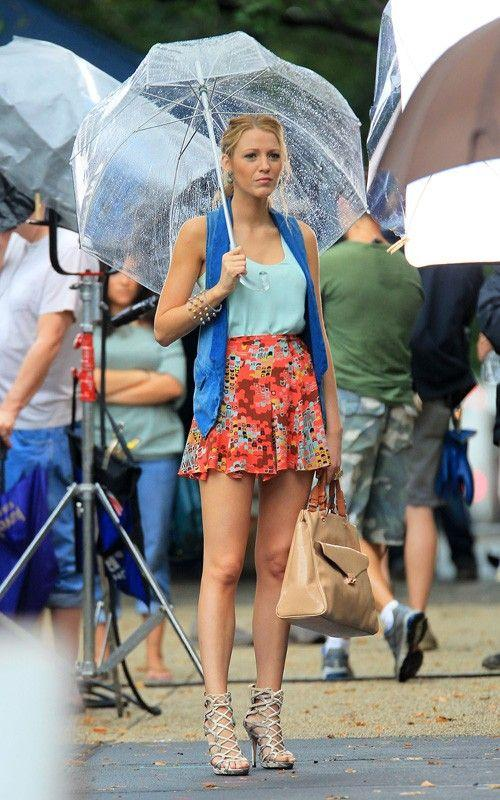person: (154, 109, 343, 776)
